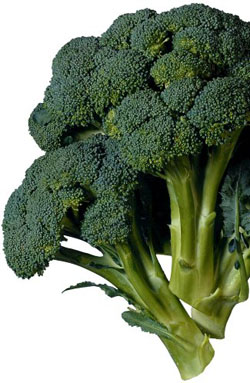broccoli: (2, 2, 249, 382)
